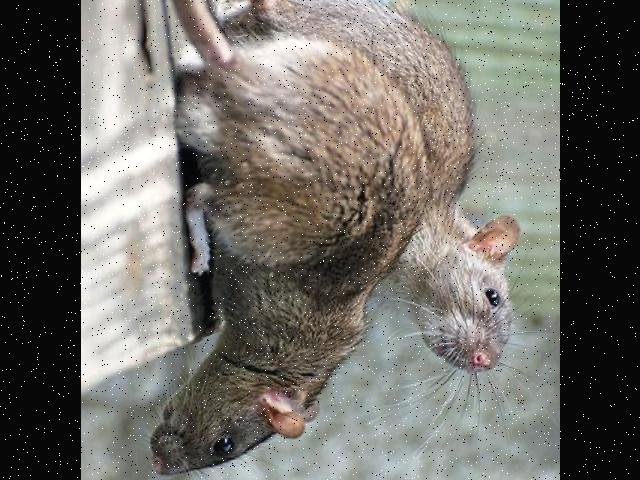Tikus: (146, 38, 420, 480), (422, 38, 522, 379)
